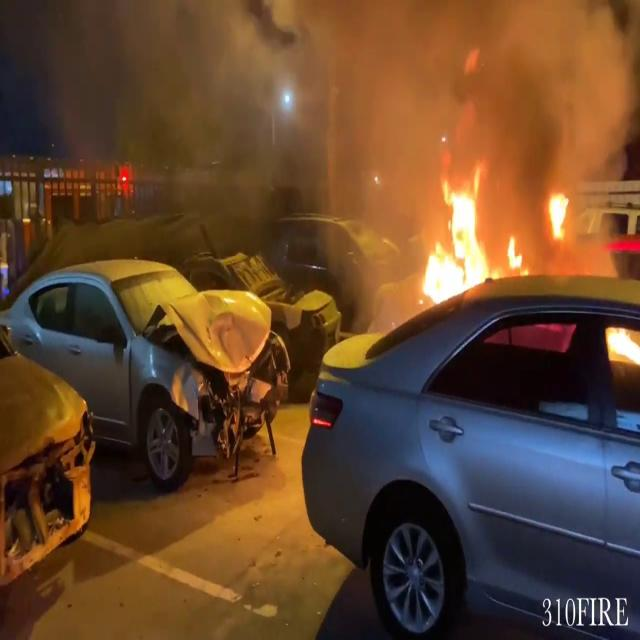Fire: (407, 167, 531, 309), (546, 187, 572, 241)
Smoke: (171, 0, 631, 249)
